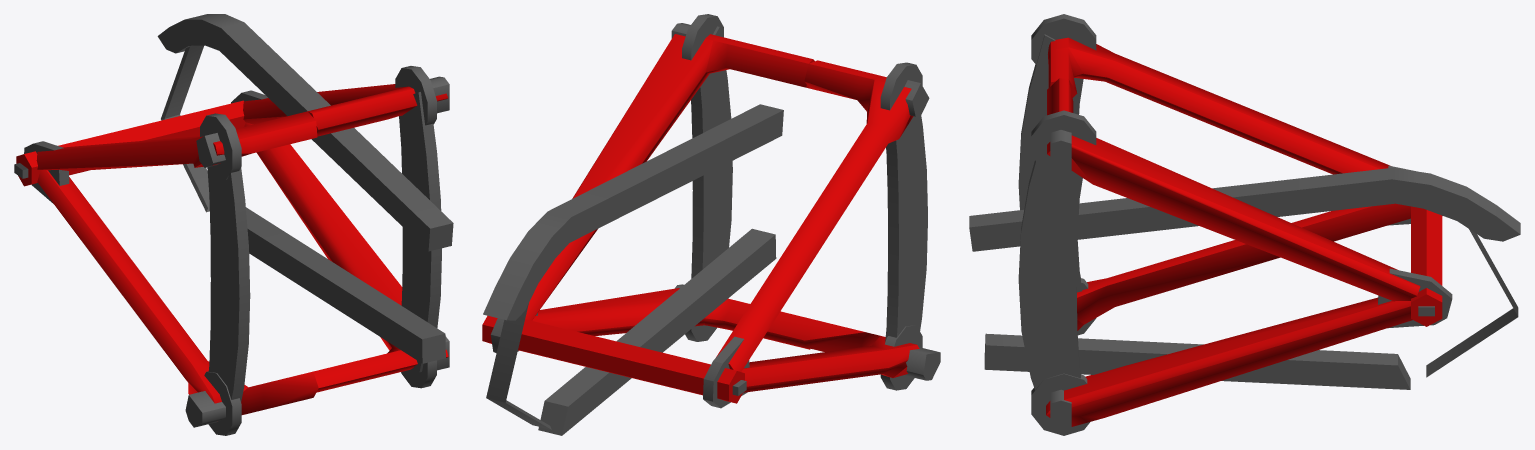
File: bike_chop_pendulumn.fbx
3 views of the same model, side by side, from view 1: azimuth 30°, elevation 25°; view 2: azimuth 150°, elevation 25°; view 3: azimuth 270°, elevation 25° (orthographic).
Visible parts, largest first — view 1: pendulum; view 2: pendulum; view 3: pendulum.
Part boxes in pixels (x1,y1,x2,y2): pendulum: [14, 14, 453, 435]; pendulum: [482, 14, 940, 435]; pendulum: [969, 14, 1520, 435].
Size of the model in its own units: 37.04 by 43.94 by 68.42.
